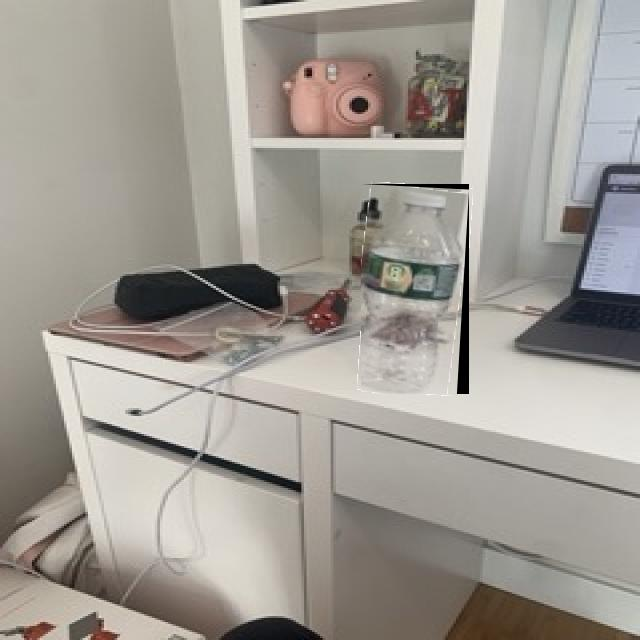water_bottle: (361, 184, 469, 394)
